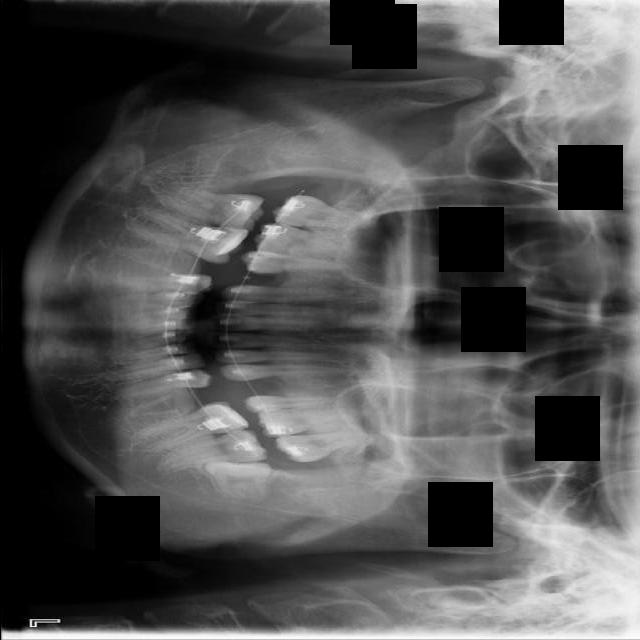73: (35, 588, 39, 601)
BioHorizons Implant: (272, 428, 382, 465)
Biomet 3i Implant: (204, 462, 270, 503)
Blue Sky Bio Implant: (156, 428, 266, 473)
Caries: (271, 195, 367, 228)
Implant: (146, 179, 264, 236)
